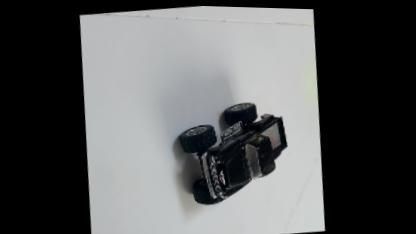black monster truck: (168, 85, 296, 210)
